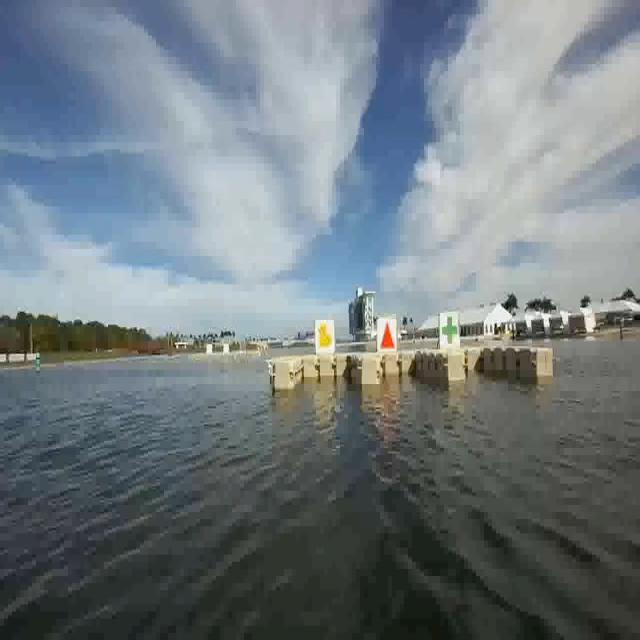blue-cross: (438, 316, 462, 352)
red-dot: (376, 316, 399, 352)
yellow-duck: (313, 316, 334, 358)
